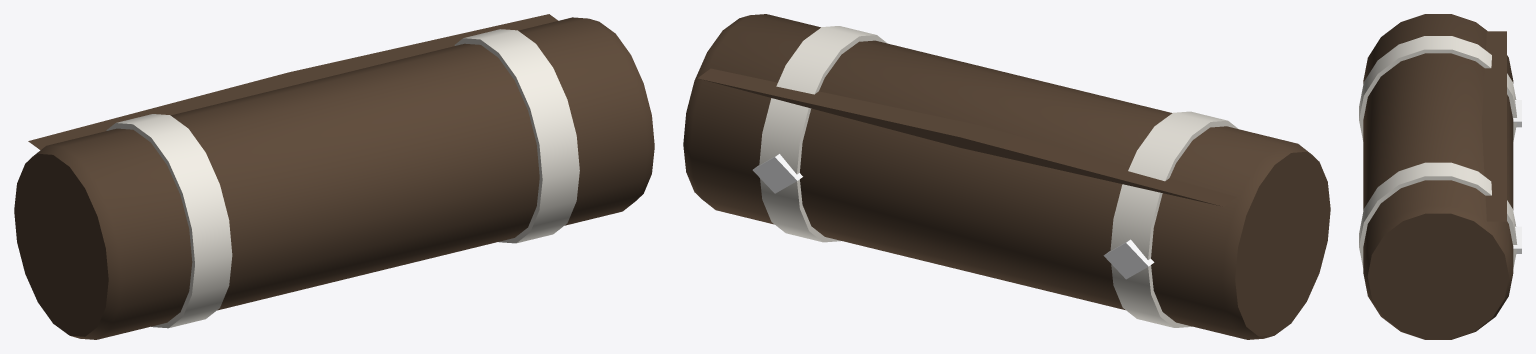
Rendered from tool_roll.glb.
3 views of the same model, side by side, from view 1: azimuth 30°, elevation 25°; view 2: azimuth 150°, elevation 25°; view 3: azimuth 270°, elevation 25° (orthographic). The views are drawn at different scales.
Visible parts, largest first — view 1: lod0; view 2: lod0; view 3: lod0.
Part boxes in pixels (x1,y1,x2,y2): lod0: [14, 14, 654, 339]; lod0: [683, 14, 1330, 339]; lod0: [1359, 14, 1521, 339].
Size of what is drawn, in the model's own units: 0.22 by 0.0729 by 0.076.
